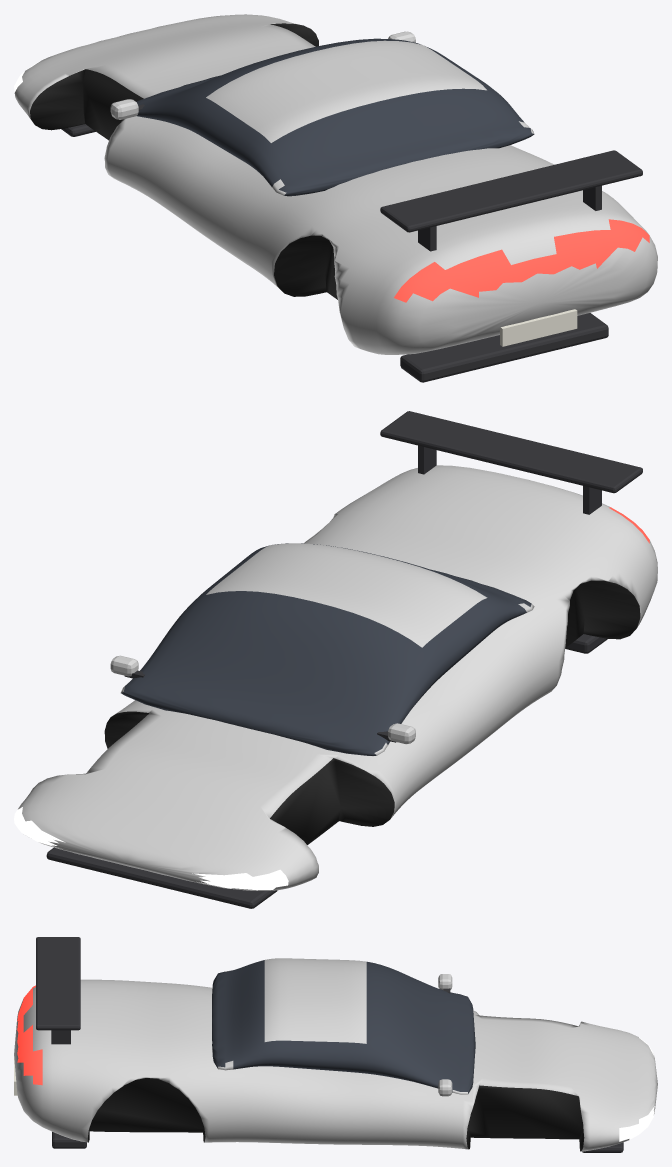
File: halcyon.glb
The picture shows the model from 3 angles, top to bottom: view 1: azimuth 30°, elevation 25°; view 2: azimuth 150°, elevation 25°; view 3: azimuth 270°, elevation 25°; orthographic projection. The views are drawn at different scales.
Parts seen in each view (by area): view 1: halcyon; view 2: halcyon; view 3: halcyon.
Part boxes in pixels (x1=…): halcyon: x1=14, y1=14, x2=657, y2=382; halcyon: x1=14, y1=411, x2=657, y2=908; halcyon: x1=14, y1=937, x2=657, y2=1152.
Bounding box in the file's own units: 1.93 × 1.05 × 4.59.
